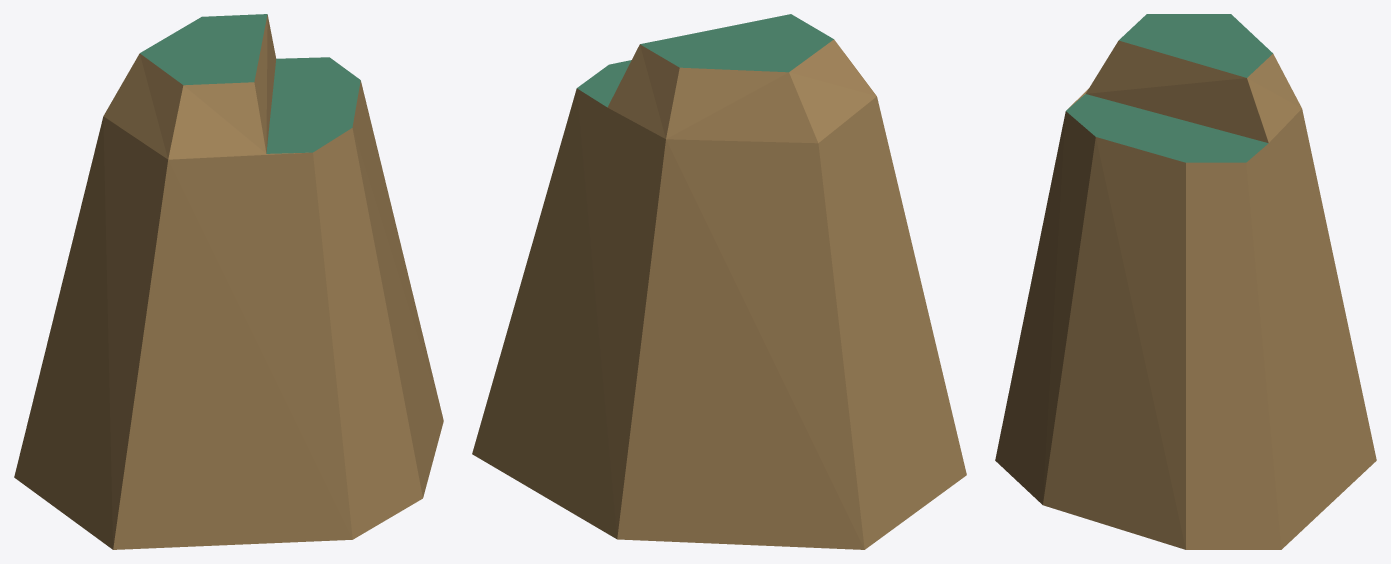
Rendered from Rock_Medium_Mesa_Eroded_Moss_Grass_02.FBX.
The picture shows the model from 3 angles, left to right: view 1: azimuth 30°, elevation 25°; view 2: azimuth 150°, elevation 25°; view 3: azimuth 270°, elevation 25°; orthographic projection. The views are drawn at different scales.
Visible parts, largest first — view 1: Rock_Medium_Mesa_Eroded_Moss_Grass_02; view 2: Rock_Medium_Mesa_Eroded_Moss_Grass_02; view 3: Rock_Medium_Mesa_Eroded_Moss_Grass_02.
Boxes of the visible parts, bbox=[...] form: Rock_Medium_Mesa_Eroded_Moss_Grass_02: bbox=[14, 14, 443, 549]; Rock_Medium_Mesa_Eroded_Moss_Grass_02: bbox=[472, 14, 966, 549]; Rock_Medium_Mesa_Eroded_Moss_Grass_02: bbox=[995, 14, 1376, 549].
Size of the model in its own units: 2406 by 2535 by 2171.
